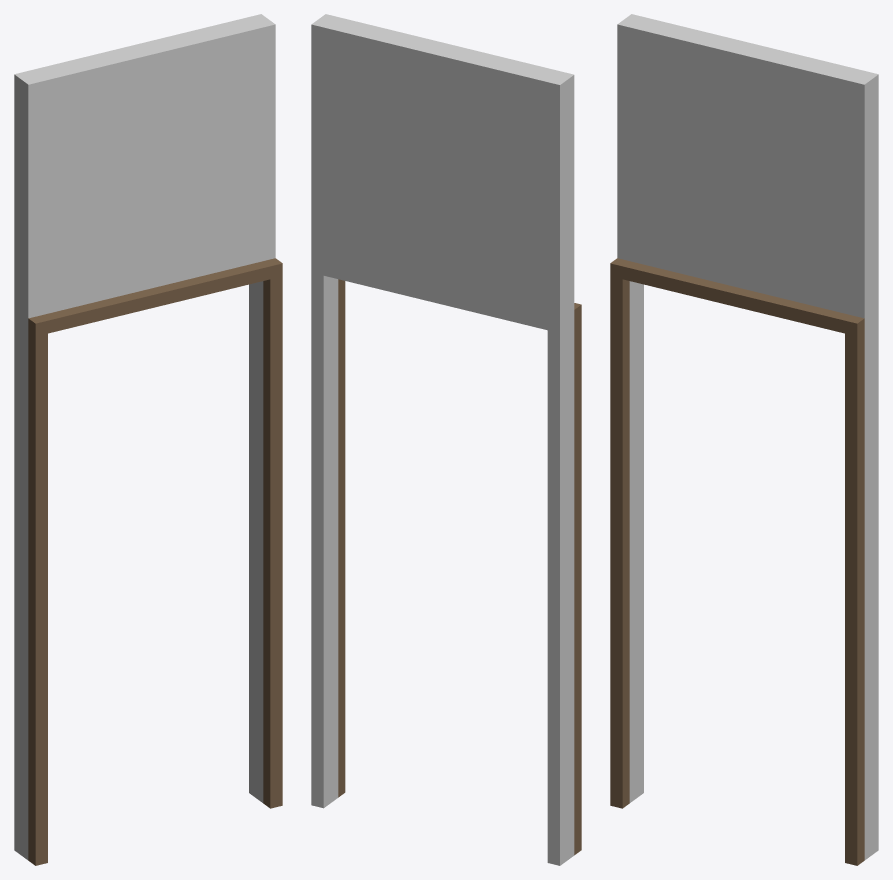
The model's file is Mesh_DoorHole_08.fbx.
3 renders of one model, left to right at view 1: azimuth 30°, elevation 25°; view 2: azimuth 150°, elevation 25°; view 3: azimuth 330°, elevation 25°, orthographic.
Parts seen in each view (by area): view 1: Mesh_DoorHole_08; view 2: Mesh_DoorHole_08; view 3: Mesh_DoorHole_08.
Part boxes in pixels (x1,y1,x2,y2): Mesh_DoorHole_08: (14, 14, 282, 865); Mesh_DoorHole_08: (311, 14, 581, 865); Mesh_DoorHole_08: (610, 14, 878, 865).
Bounding box in the file's own units: 1 × 3 × 0.15.
